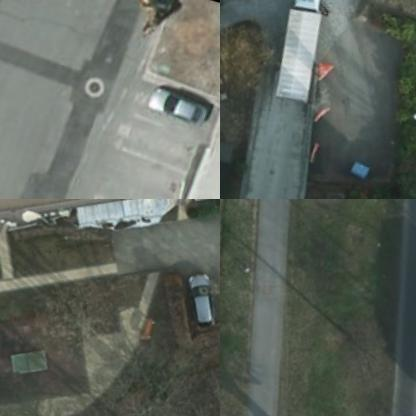car: (146, 81, 219, 125), (181, 262, 219, 324)
other: (129, 0, 202, 26)
